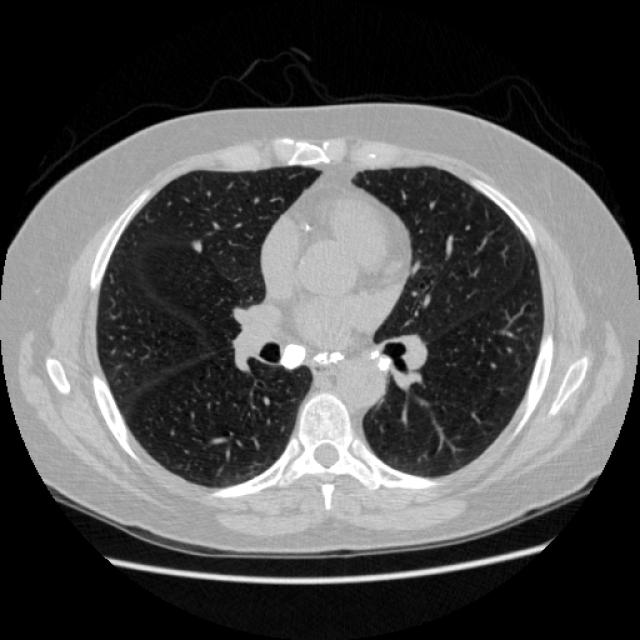nodule: (185, 234, 207, 256)
